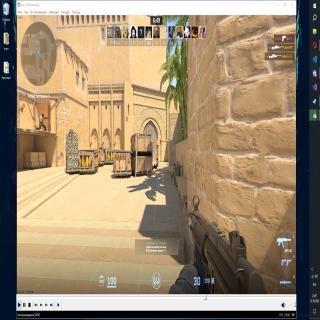T-Body: (38, 111, 46, 132)
T-Head: (41, 111, 44, 119)
